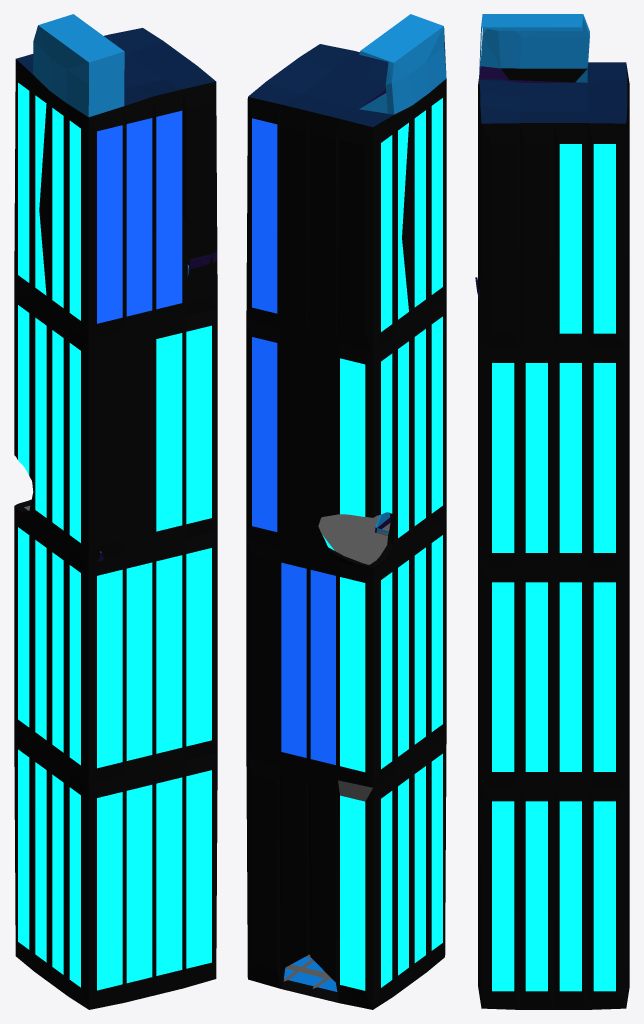
The model's file is startingBuilding2MatsRename.fbx.
3 renders of one model, left to right at view 1: azimuth 30°, elevation 25°; view 2: azimuth 150°, elevation 25°; view 3: azimuth 270°, elevation 25°, orthographic.
Parts seen in each view (by area): view 1: Plane.005; view 2: Plane.005; view 3: Plane.005.
Part boxes in pixels (x1,y1,x2,y2): Plane.005: [14, 14, 217, 1009]; Plane.005: [246, 14, 446, 1009]; Plane.005: [475, 14, 629, 1009].
Bounding box in the file's own units: 305 × 2085 × 310.
